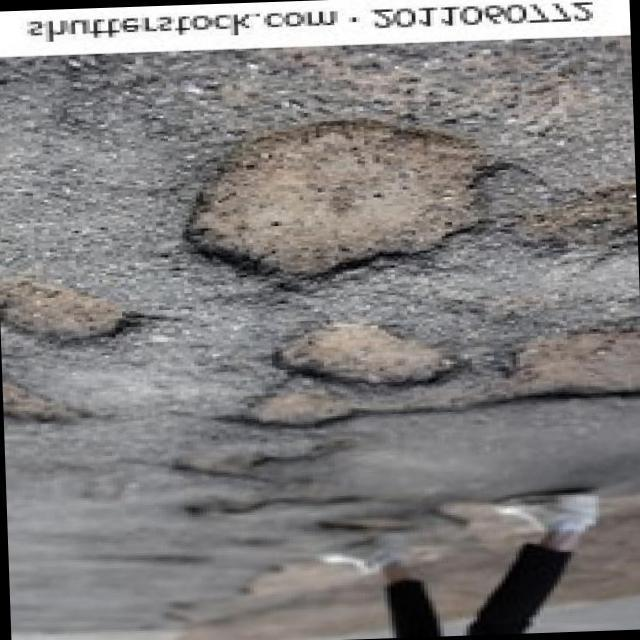Pothole: (184, 120, 479, 284), (267, 324, 465, 390), (3, 280, 158, 342)
